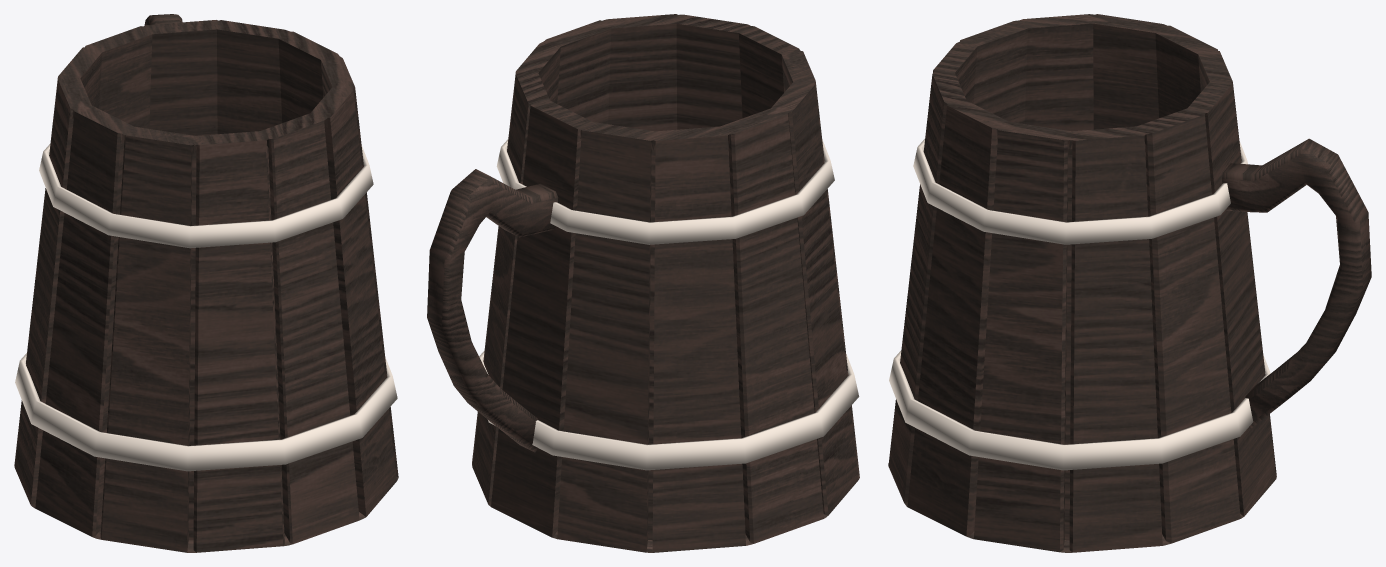
Rendered from wood-mug.glb.
3 renders of one model, left to right at view 1: azimuth 30°, elevation 25°; view 2: azimuth 150°, elevation 25°; view 3: azimuth 270°, elevation 25°, orthographic.
Visible parts, largest first — view 1: mug; view 2: mug; view 3: mug.
Boxes of the visible parts, x1=… form: mug: x1=14, y1=14, x2=398, y2=552; mug: x1=427, y1=14, x2=859, y2=552; mug: x1=888, y1=14, x2=1371, y2=552.
Bounding box in the file's own units: 5.07 × 5.66 × 6.31.
2 materials, 1 textured.
